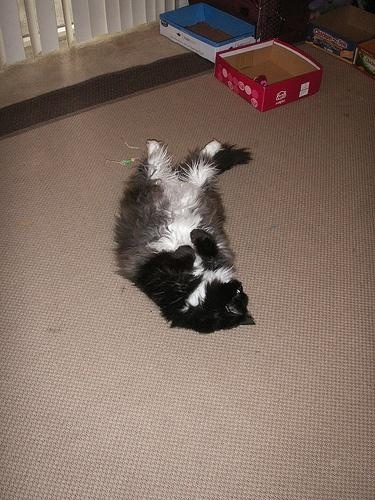cat: (115, 135, 257, 336)
